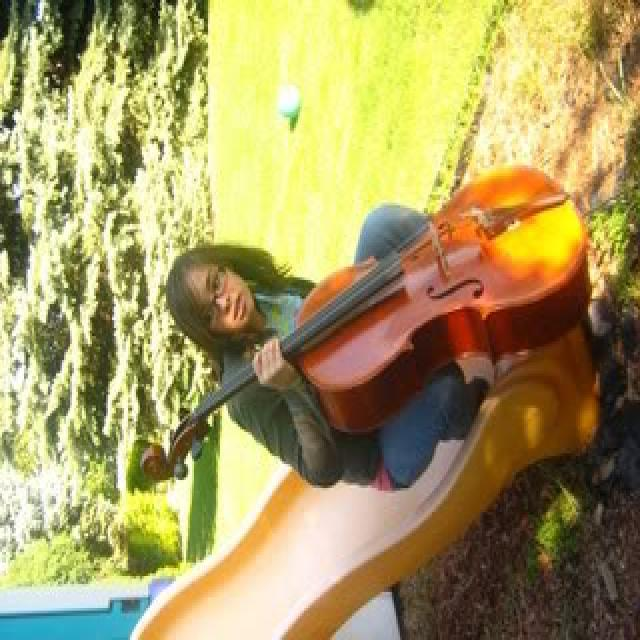cello: (137, 159, 590, 486)
